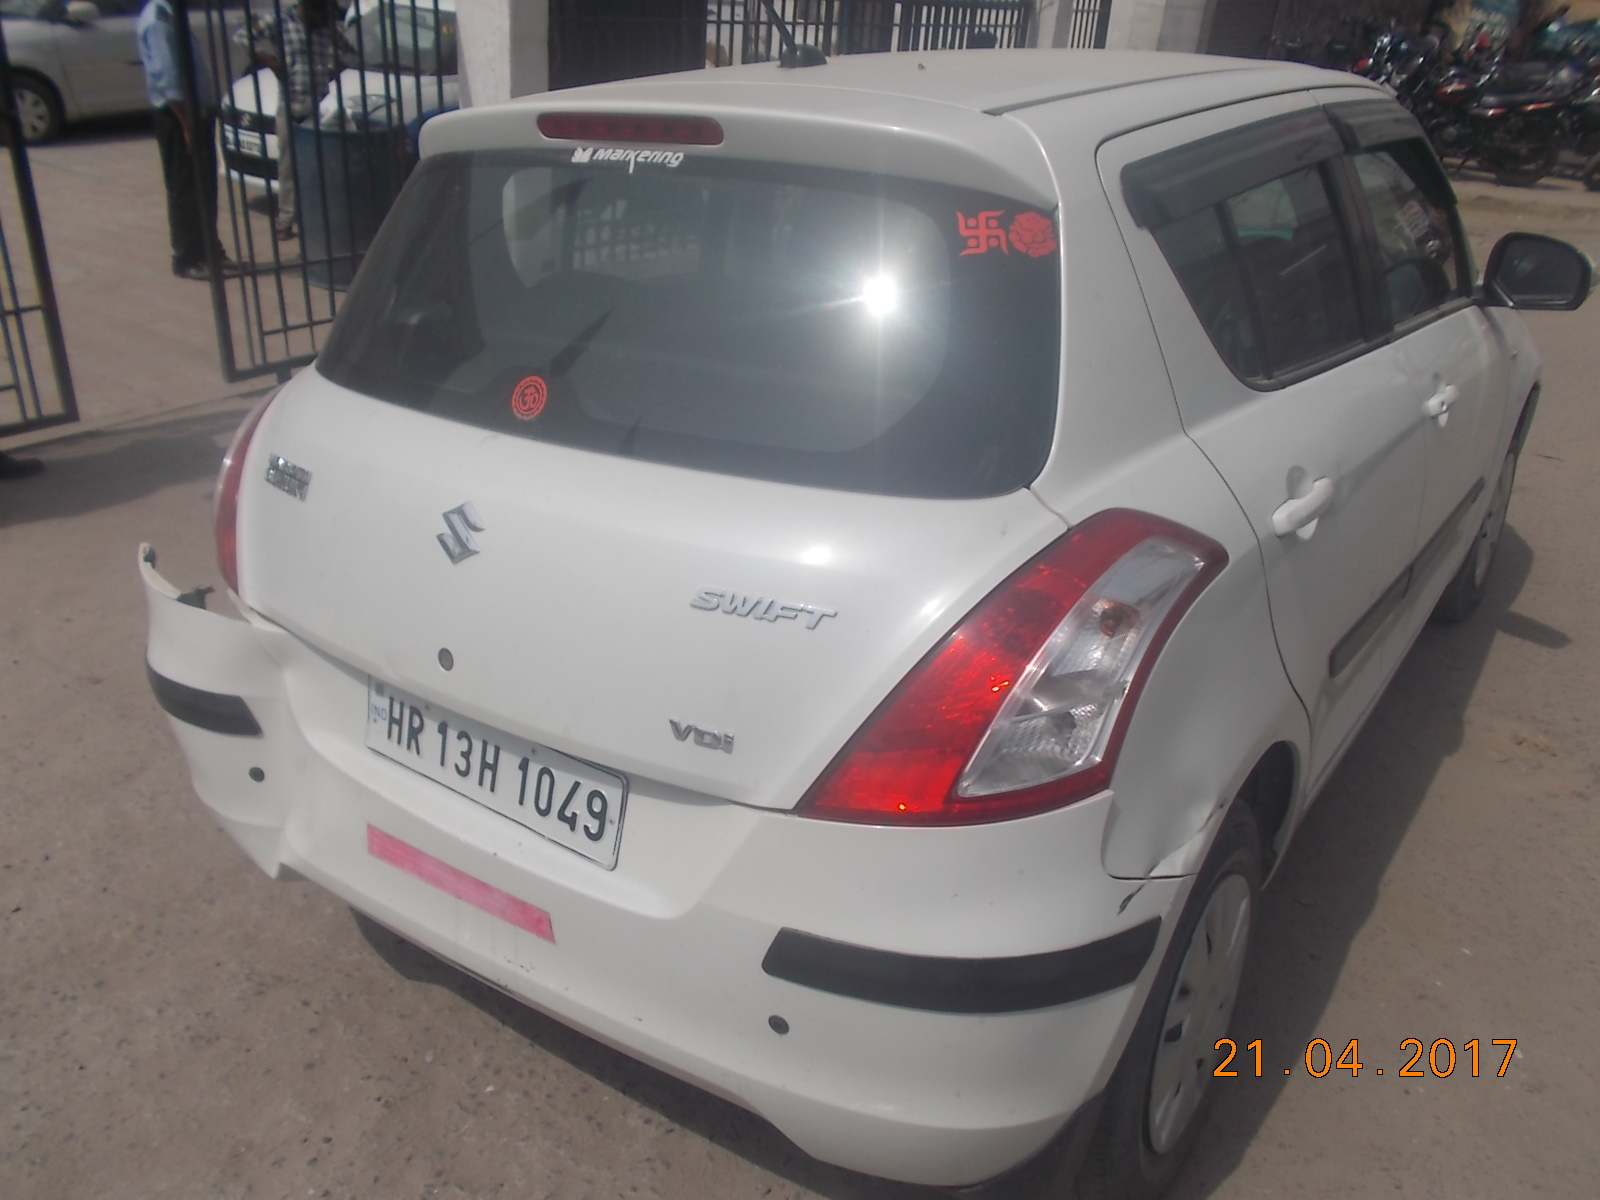Dent: (232, 649, 304, 826)
